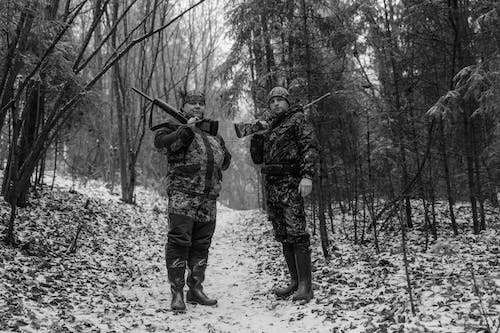gun: (232, 91, 332, 139), (131, 85, 219, 137)
